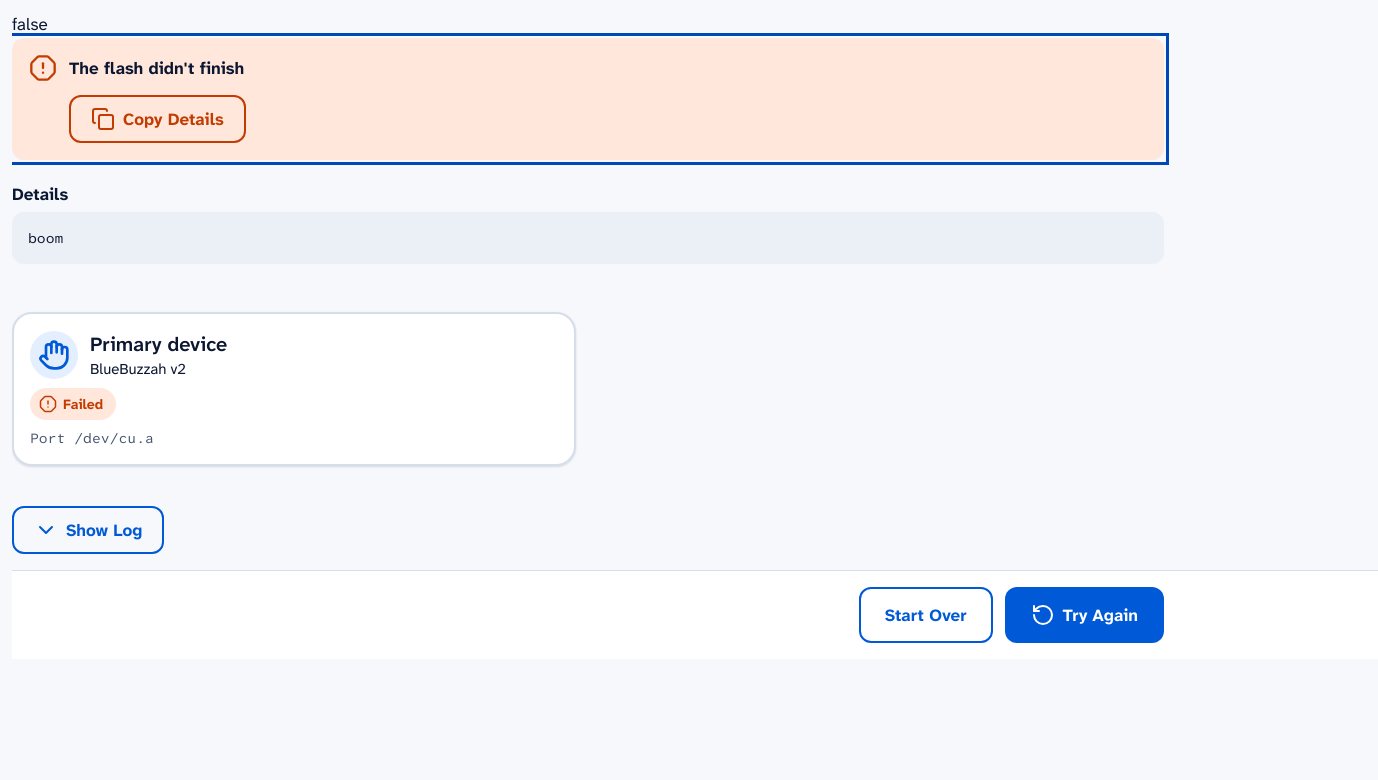
it: flash run safety › keeps every run guard on while a retried flash runs
The width and height of the screenshot is (1378, 780).
Expected: the text with test id "busy" reads "false", [12, 13, 48, 35]
Click the button "Try Again". click: x=1084, y=614
box: [1005, 586, 1164, 642]
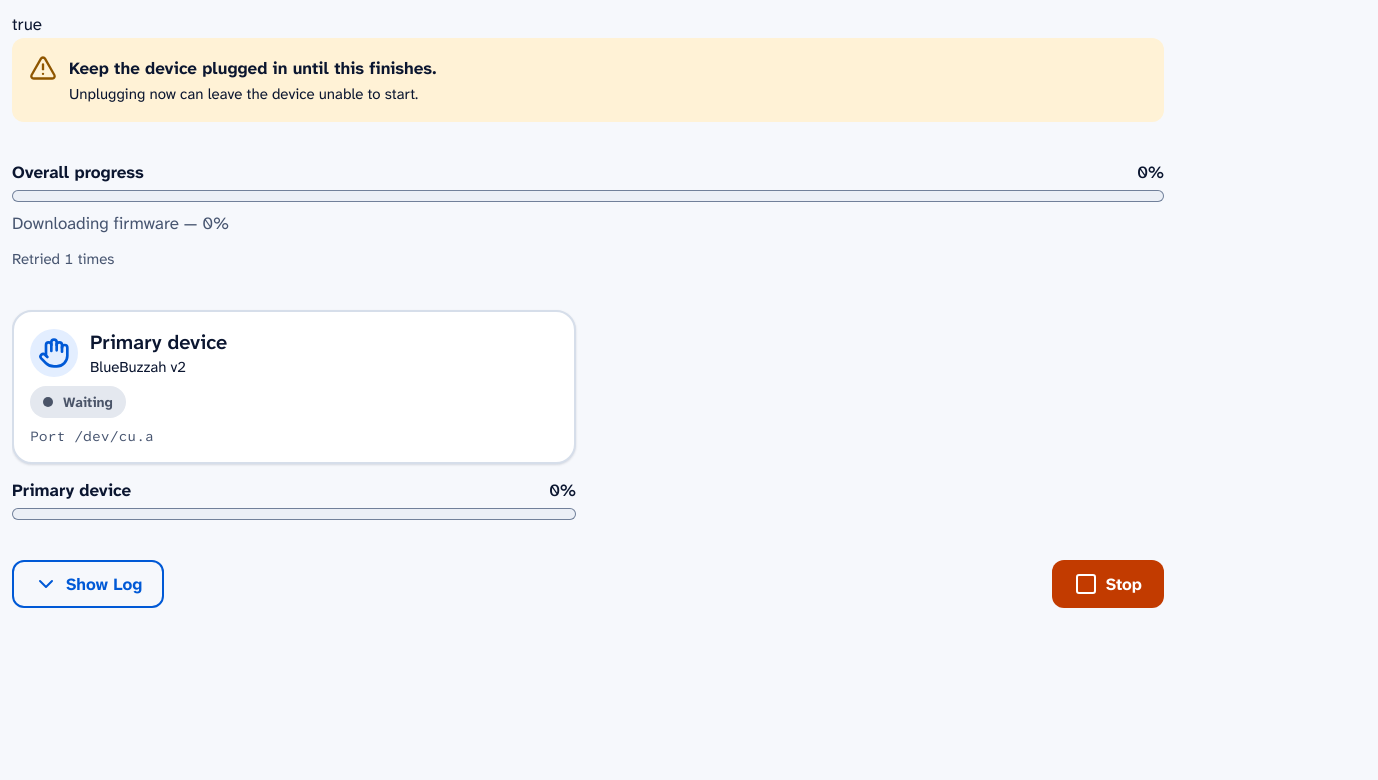
Expected: the text with test id "busy" reads "true", [12, 13, 42, 35]
